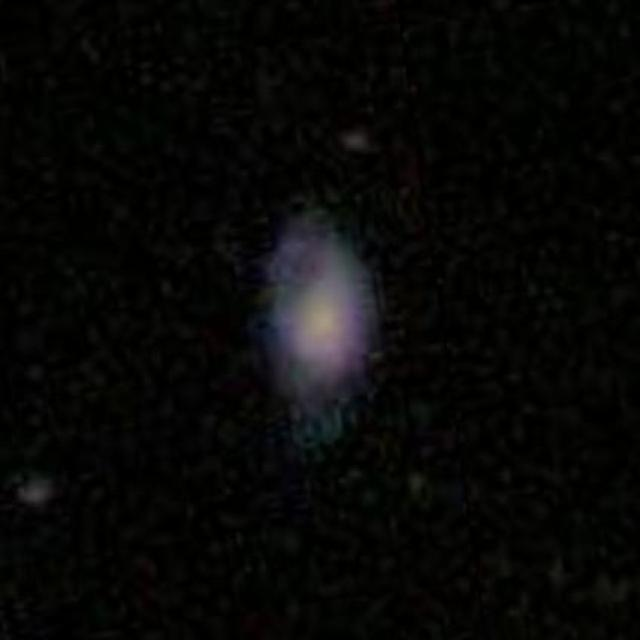galaxy: (266, 201, 388, 450), (14, 471, 56, 510), (342, 130, 377, 156)
